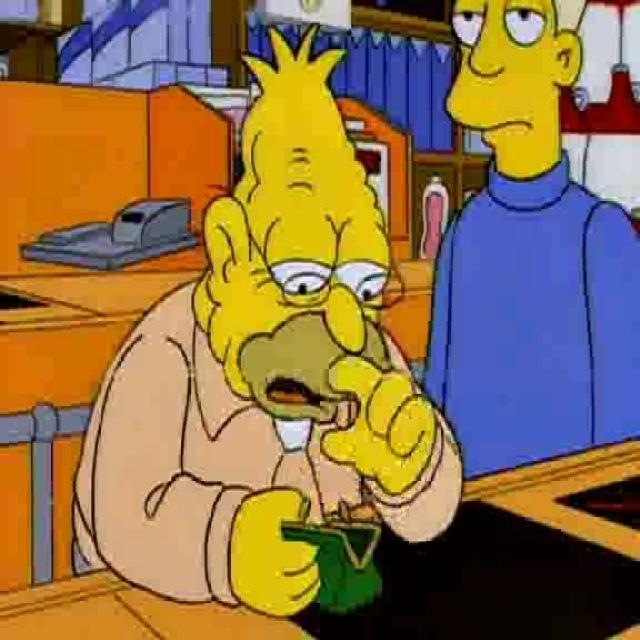Abraham Grampa Simpson: (188, 22, 394, 430)
